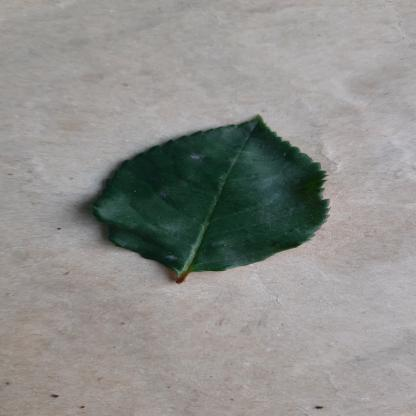powdery-mildew: (82, 113, 334, 277)
